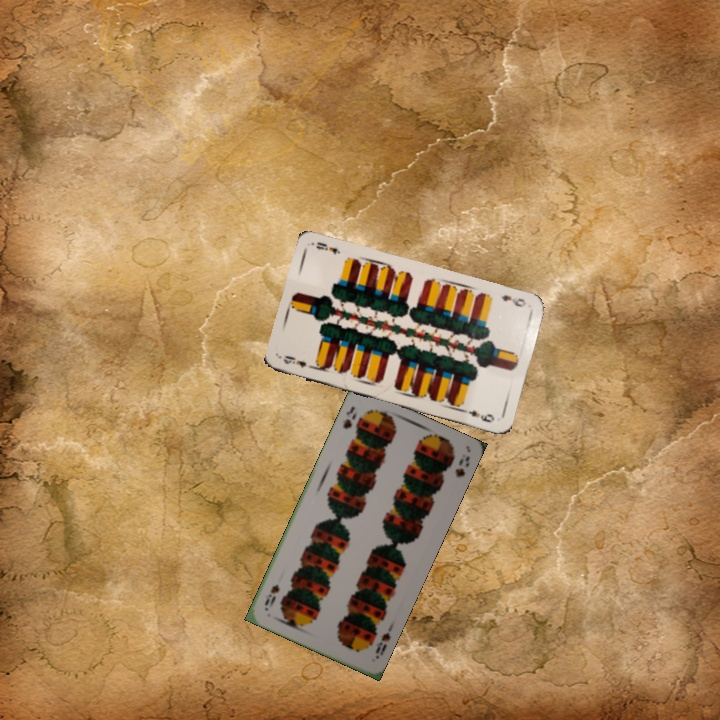E9: (279, 351, 318, 371), (497, 291, 528, 310)
S8: (339, 402, 360, 432), (371, 629, 393, 656)
